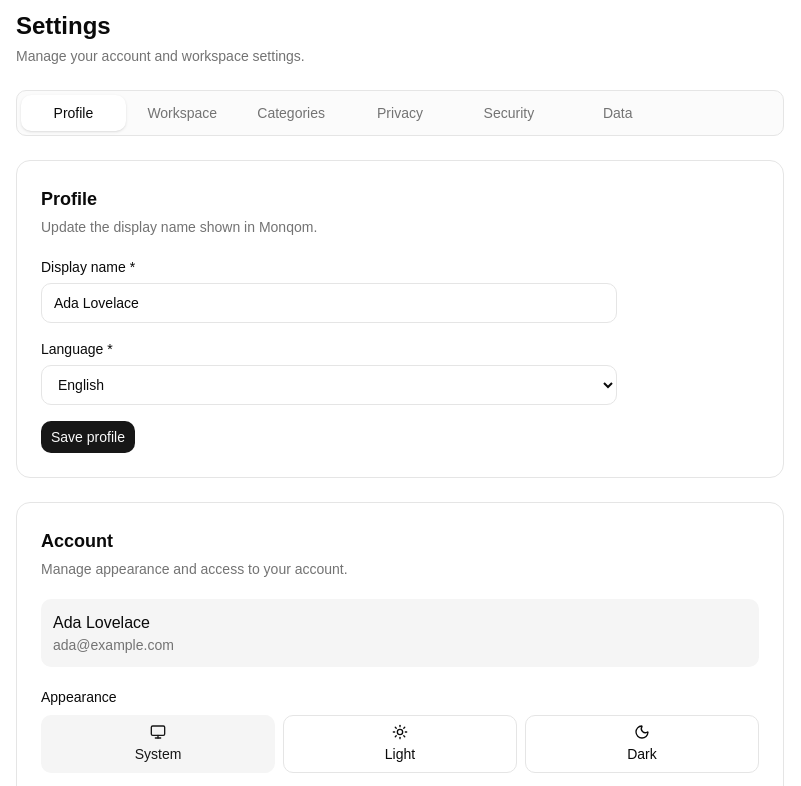
Test case: SettingsPage › validates workspace name before saving
Click the button "Workspace" at coordinates (182, 113), box [130,95,235,131]
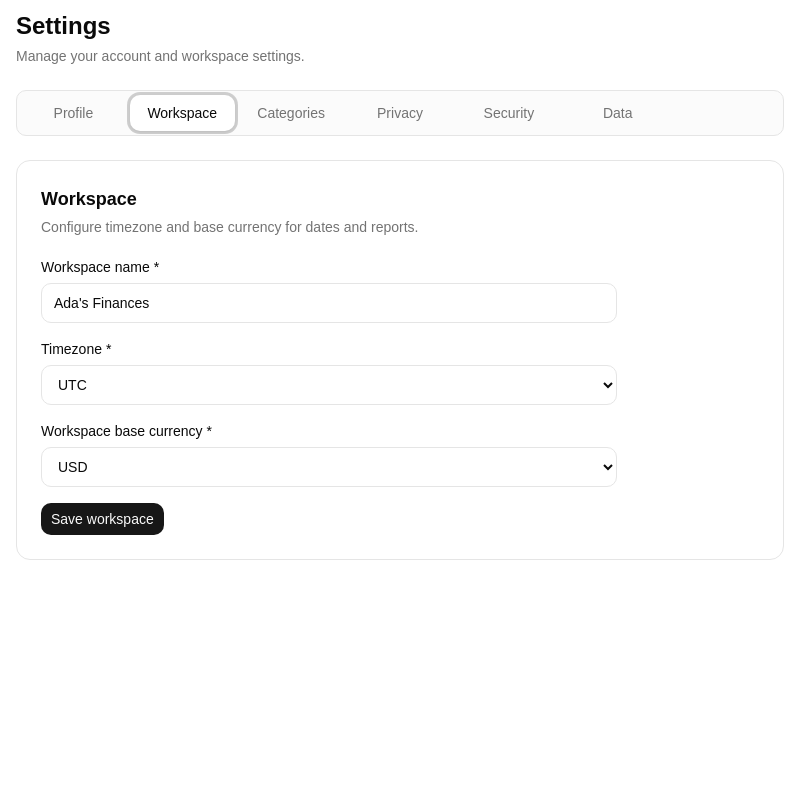
Clear the field labelled "Workspace name" at coordinates (329, 303), box [41,283,617,323]
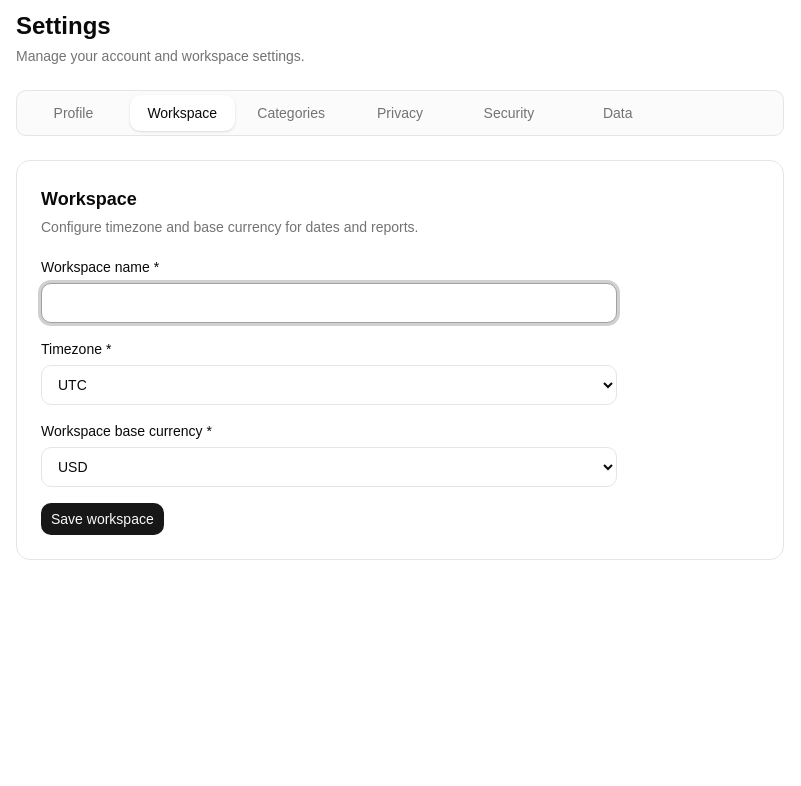
Click the button "Save workspace" at coordinates (102, 519), box [41,503,164,535]
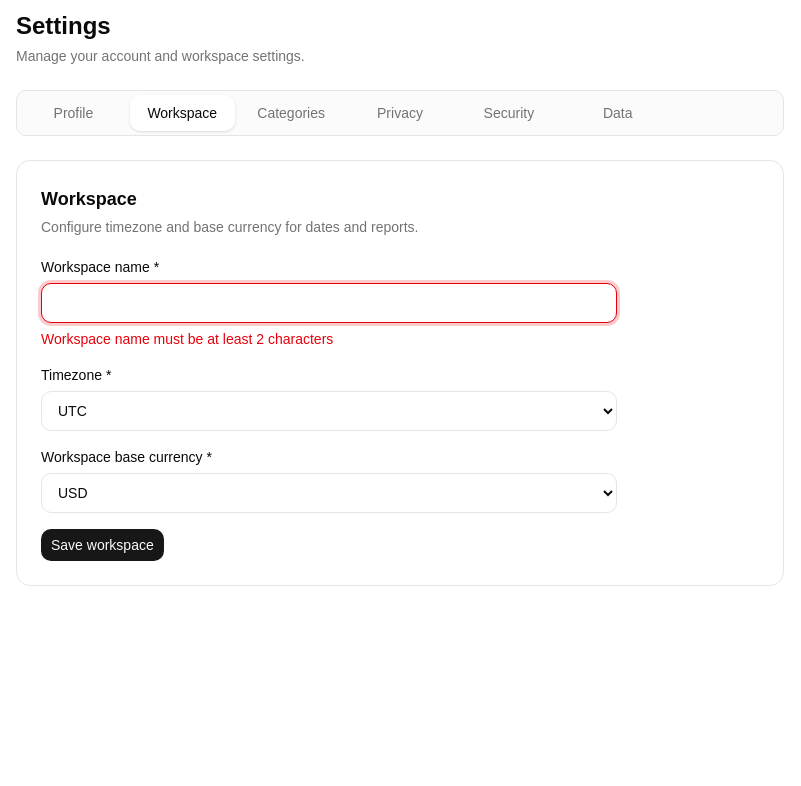
expect the message reads "Workspace name must be at least 2 characters": met, box [41,331,333,347]
